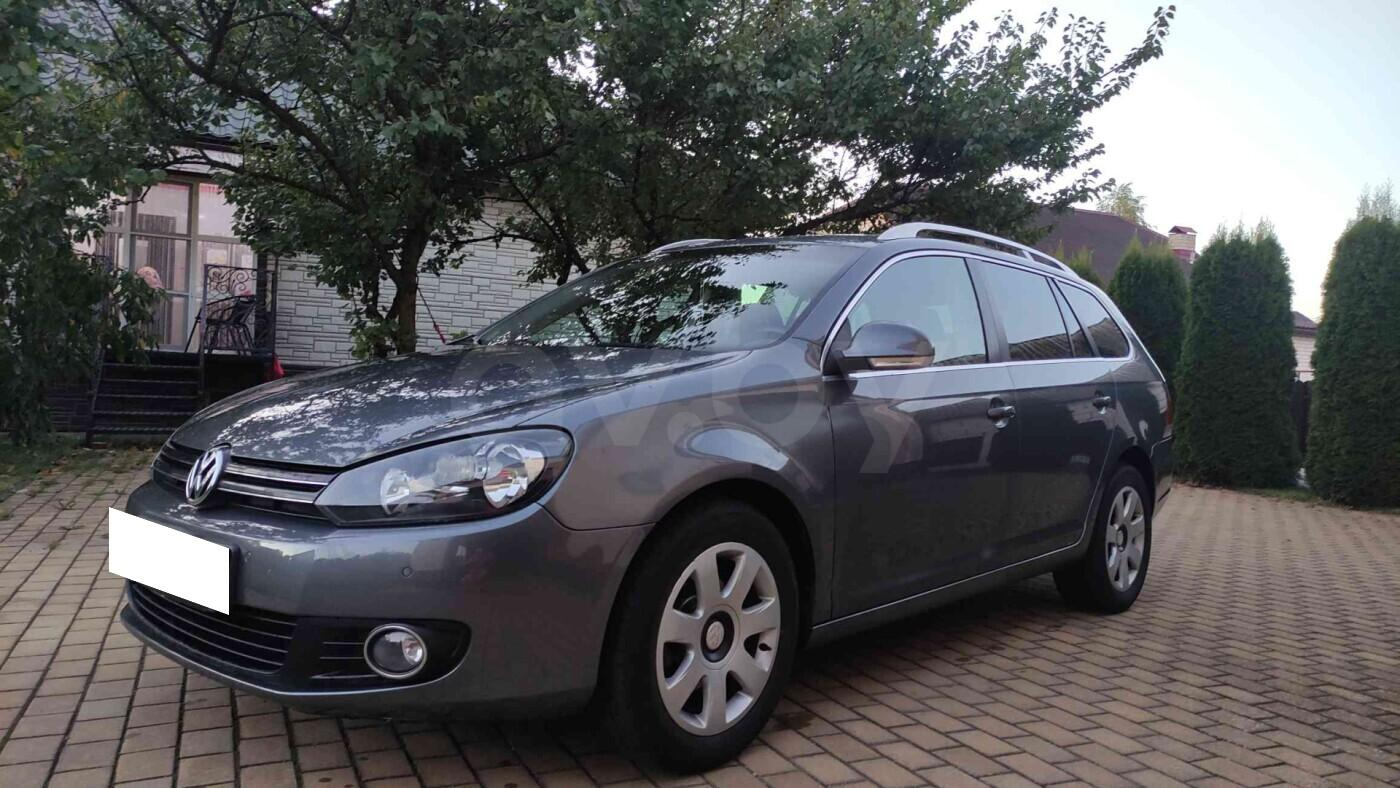Golf_2008-2013: (100, 222, 1178, 771)
